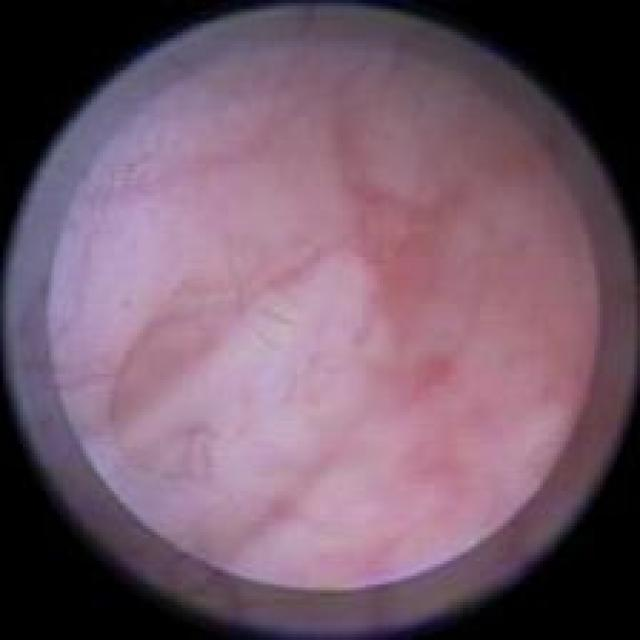blur: (71, 50, 589, 582)
